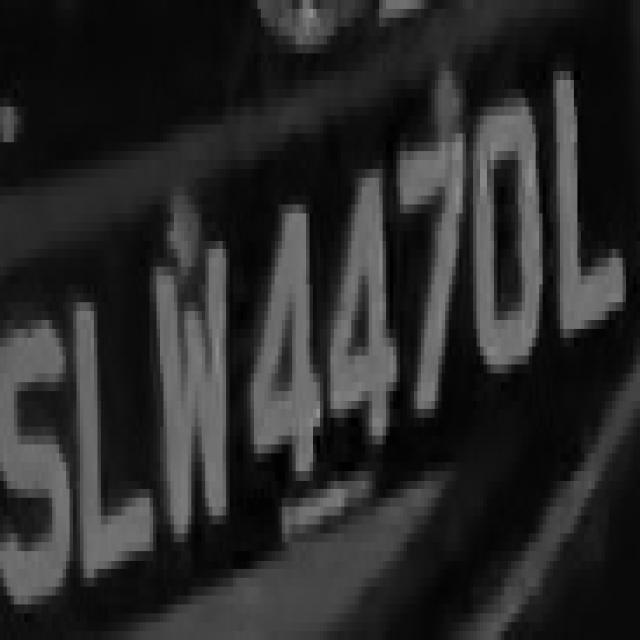0: (456, 98, 542, 391)
4: (240, 178, 327, 516), (320, 151, 400, 471)
7: (386, 125, 473, 426)
L: (70, 240, 153, 604), (539, 44, 626, 329)
S: (7, 258, 73, 640)
W: (139, 187, 237, 551)
